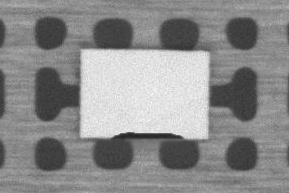DIE_BROKEN: (111, 130, 185, 139)
